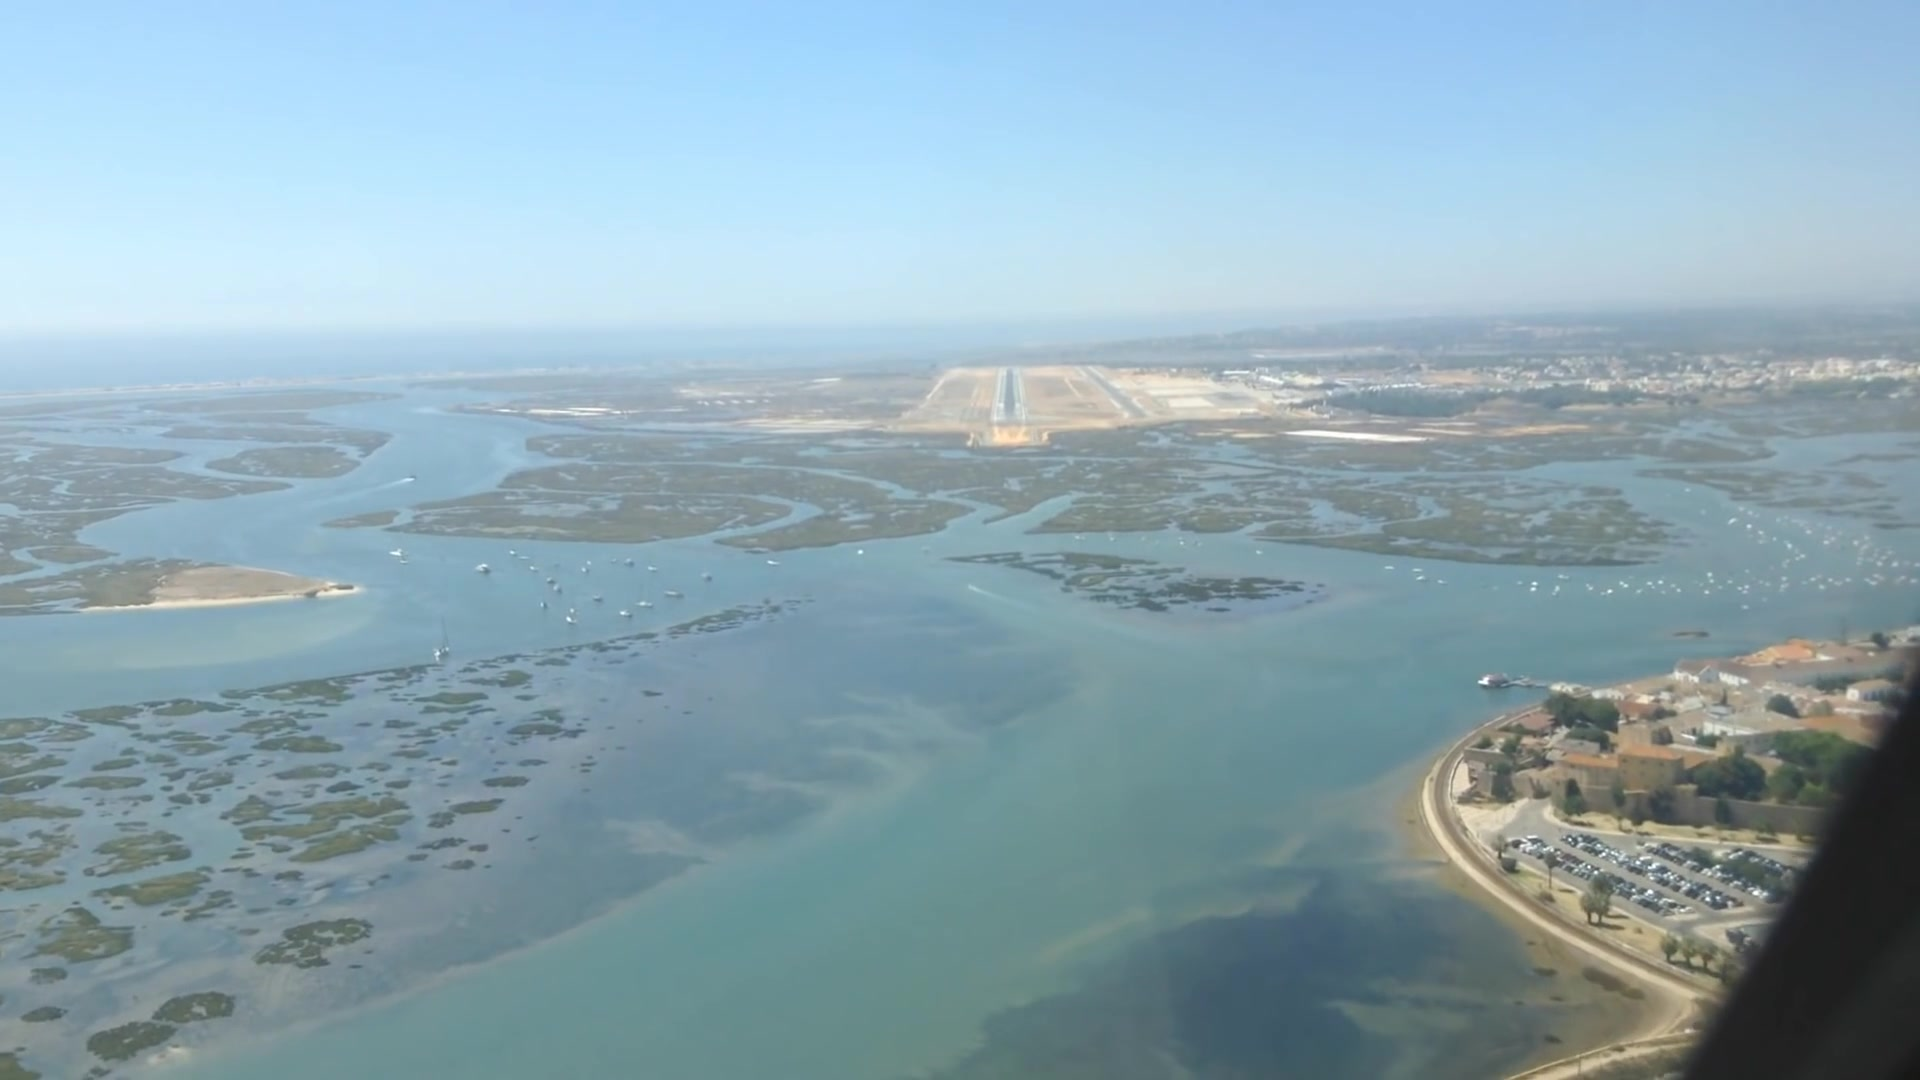runway: (992, 365, 1029, 425)
